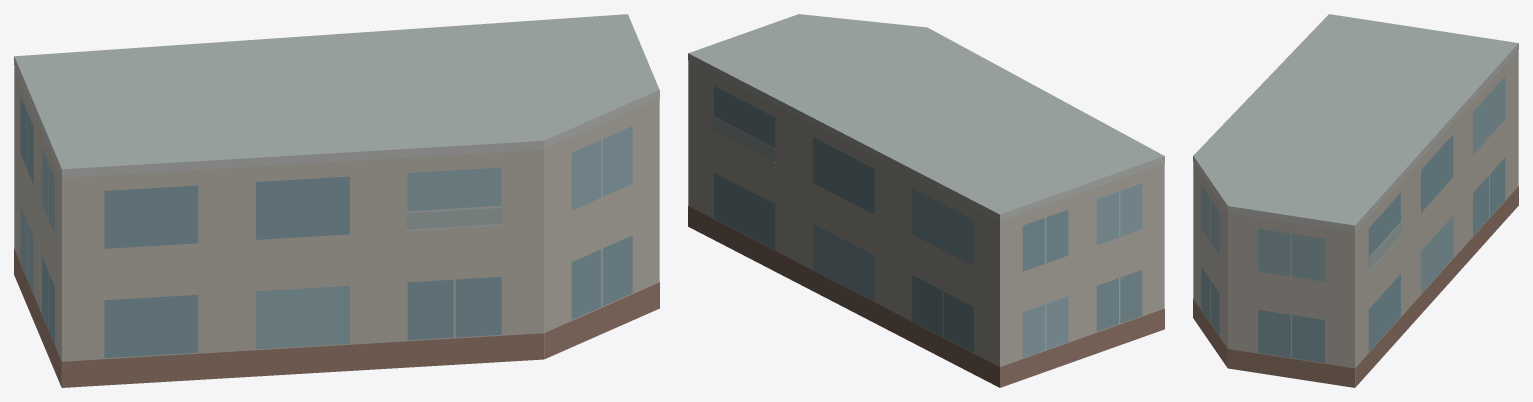
File: survey-upis-32720971.glb
The picture shows the model from 3 angles, left to right: view 1: azimuth 30°, elevation 25°; view 2: azimuth 150°, elevation 25°; view 3: azimuth 270°, elevation 25°; orthographic projection. The views are drawn at different scales.
Parts seen in each view (by area): view 1: survey-upis-32720971.tmp; view 2: survey-upis-32720971.tmp; view 3: survey-upis-32720971.tmp.
Boxes of the visible parts, bbox=[...] form: survey-upis-32720971.tmp: bbox=[14, 14, 659, 387]; survey-upis-32720971.tmp: bbox=[688, 14, 1164, 387]; survey-upis-32720971.tmp: bbox=[1193, 14, 1518, 387].
Bounding box in the file's own units: 17.05 × 6.1 × 11.09.
